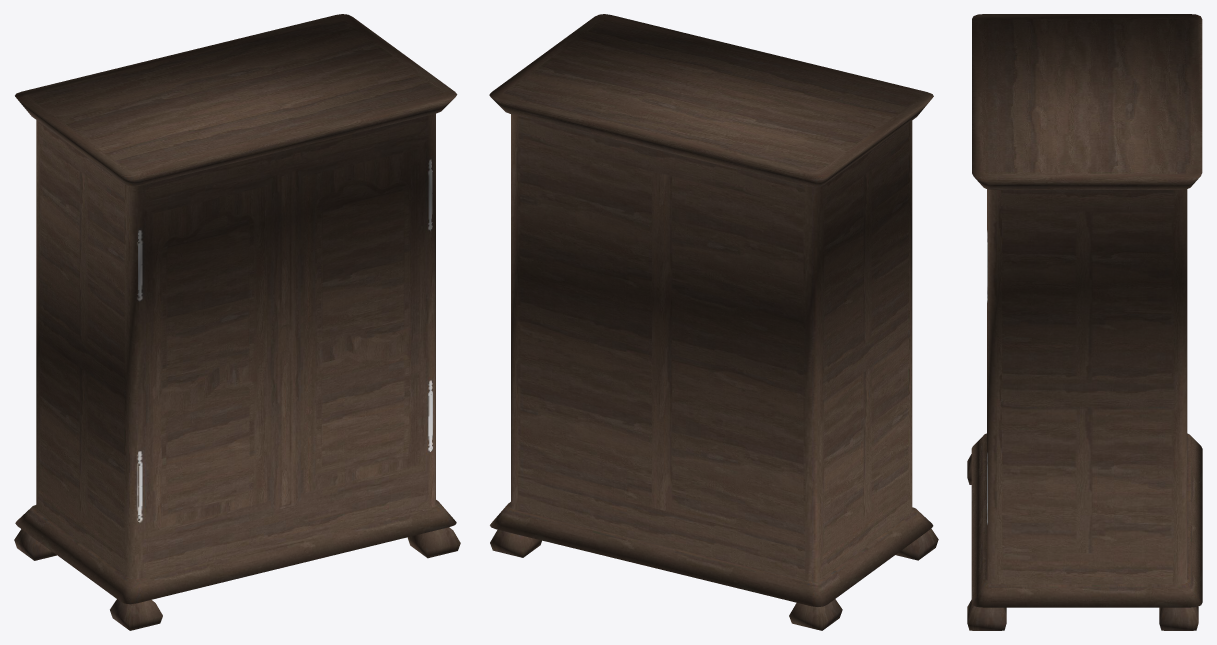
The model's file is shkaf 1.fbx.
The picture shows the model from 3 angles, left to right: view 1: azimuth 30°, elevation 25°; view 2: azimuth 150°, elevation 25°; view 3: azimuth 270°, elevation 25°; orthographic projection.
Parts seen in each view (by area): view 1: low; view 2: low; view 3: low.
Boxes of the visible parts, x1=… form: low: x1=14, y1=14, x2=460, y2=630; low: x1=489, y1=14, x2=938, y2=630; low: x1=967, y1=14, x2=1202, y2=630.
Bounding box in the file's own units: 181 × 235 × 109.
